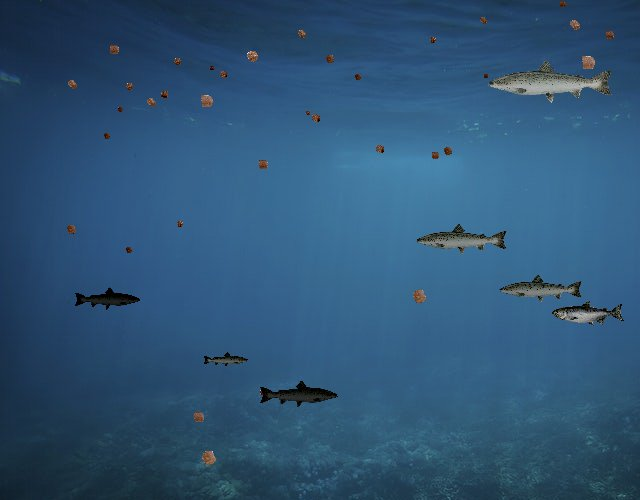Fish: (486, 58, 615, 104), (416, 223, 510, 256), (498, 273, 584, 304), (258, 379, 339, 408), (552, 300, 625, 326), (74, 287, 142, 311), (202, 351, 249, 368)
Pellet: (194, 442, 224, 473), (240, 44, 265, 69), (187, 406, 210, 429), (370, 140, 389, 159), (172, 217, 187, 232), (122, 243, 136, 257), (426, 33, 440, 47)
